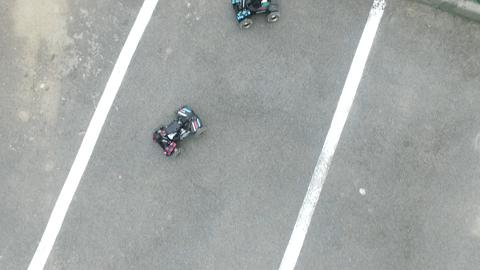chariot: (145, 101, 210, 165), (224, 1, 281, 30)
